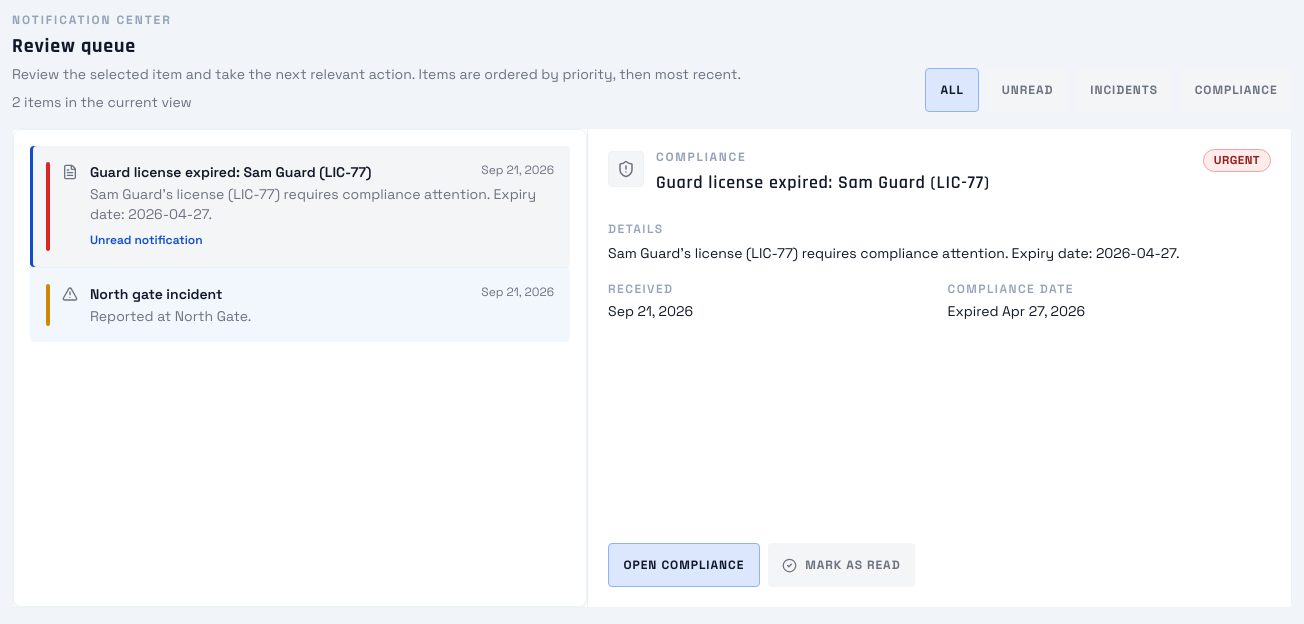
NotificationTriage › marks a persisted notification as read exactly once
Step 1. Click the button "Mark as read" → [841, 565], box 768,543 -> 915,587
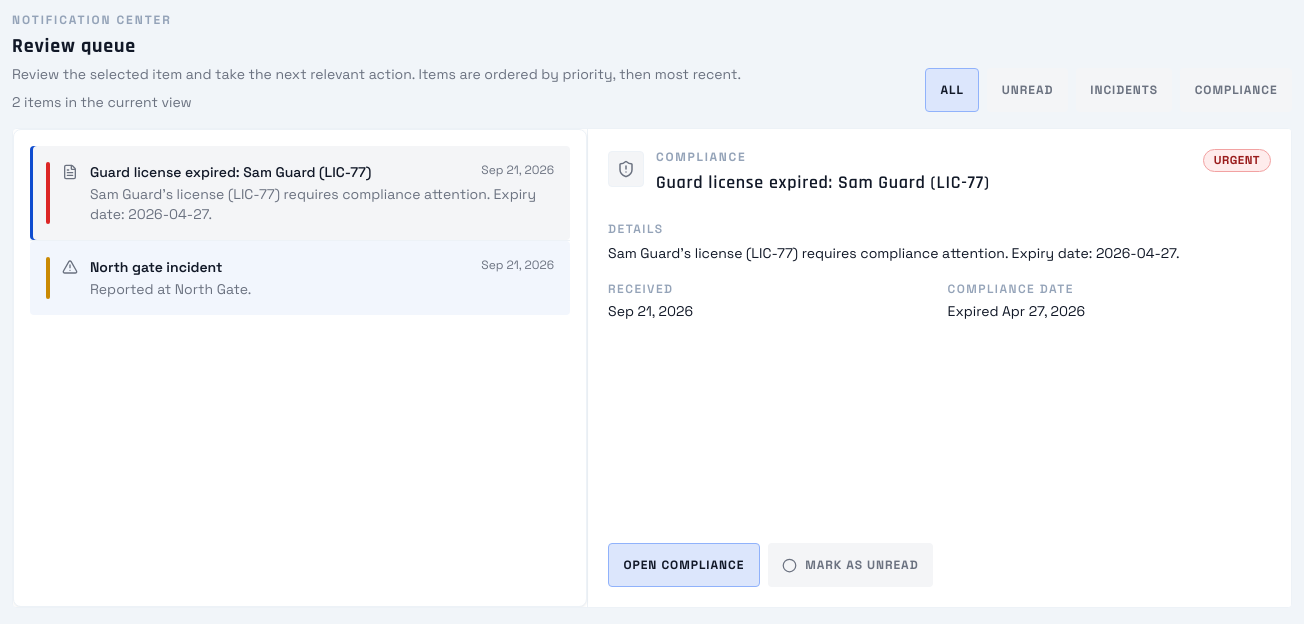
Now the button "Mark as unread" is shown, box 768,543 -> 933,587
